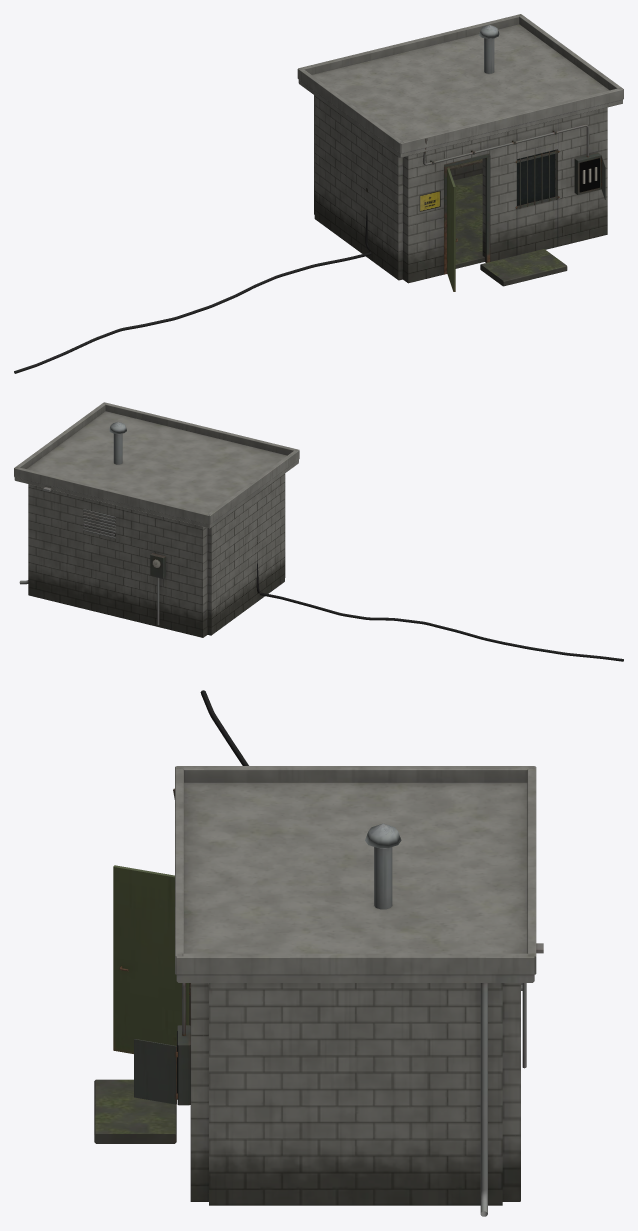
File: hut.glb
The picture shows the model from 3 angles, top to bottom: view 1: azimuth 30°, elevation 25°; view 2: azimuth 150°, elevation 25°; view 3: azimuth 270°, elevation 25°; orthographic projection. The views are drawn at different scales.
Parts seen in each view (by area): view 1: hut; view 2: hut; view 3: hut.
Boxes of the visible parts, x1,y1,x2,y2 form: hut: (14, 14, 623, 373); hut: (14, 402, 623, 661); hut: (94, 690, 543, 1216).
Size of the model in its own units: 13.42 by 3.9 by 4.9.
1 material, 1 textured.
